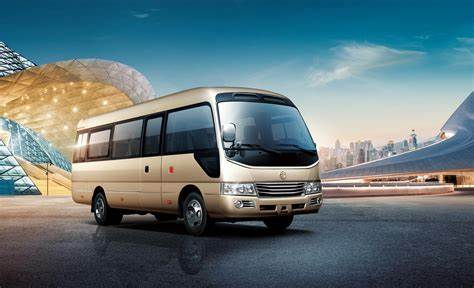midcar: (63, 77, 330, 227)
